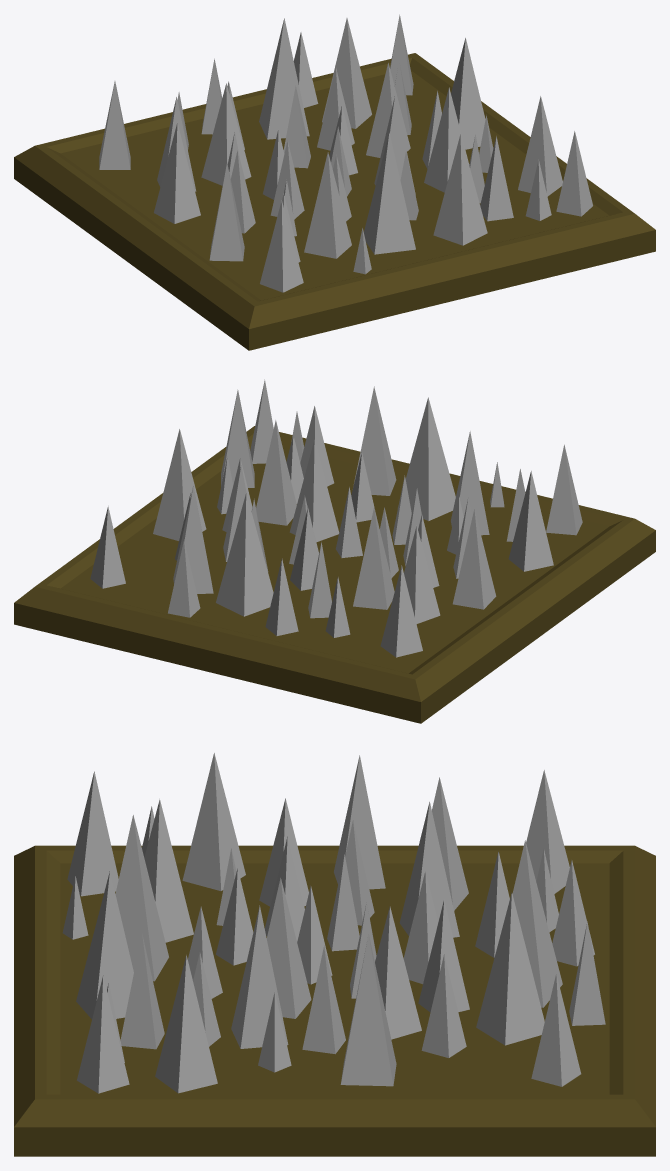
File: SpikeFloor.fbx
3 renders of one model, top to bottom at view 1: azimuth 30°, elevation 25°; view 2: azimuth 150°, elevation 25°; view 3: azimuth 270°, elevation 25°, orthographic. The views are drawn at different scales.
Visible parts, largest first — view 1: Spikes_3x3; view 2: Spikes_3x3; view 3: Spikes_3x3.
Part boxes in pixels (left/top/right/bottom): Spikes_3x3: left=14, top=14, right=655, bottom=350; Spikes_3x3: left=14, top=379, right=655, bottom=723; Spikes_3x3: left=14, top=753, right=655, bottom=1156.
Size of the model in its own units: 300 by 100 by 300.
